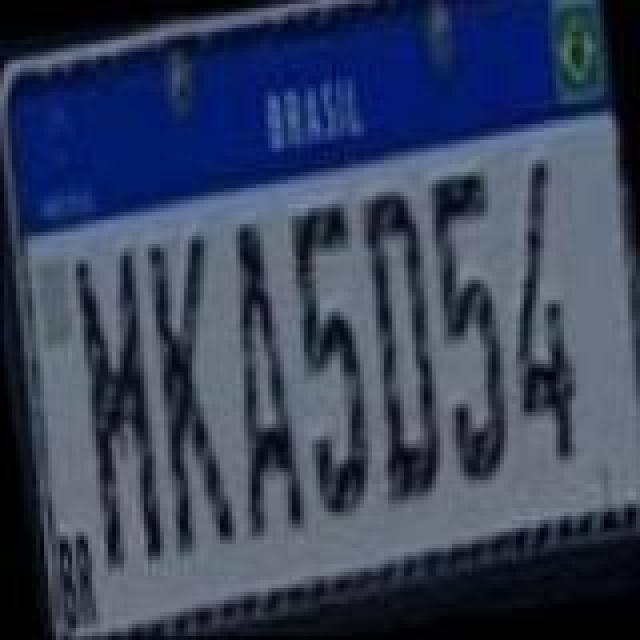4: (486, 158, 590, 470)
5: (274, 196, 386, 524), (416, 170, 524, 486)
A: (202, 222, 302, 546)
D: (342, 186, 454, 514)
K: (130, 230, 246, 562)
M: (58, 244, 174, 576)
